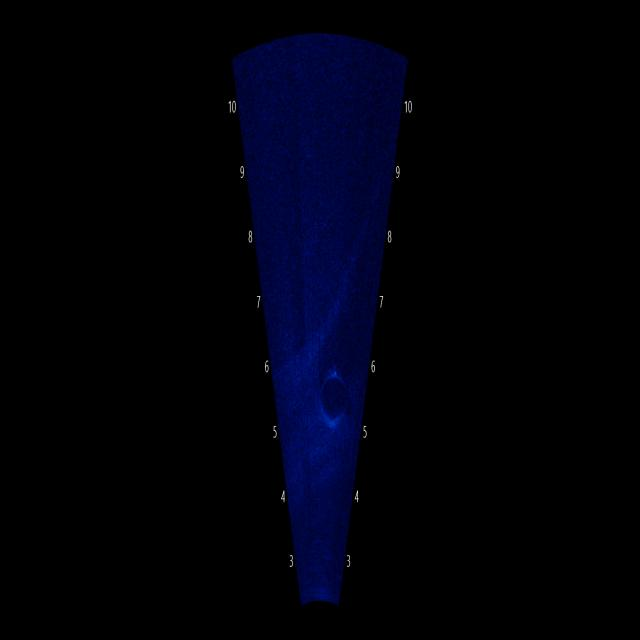circle: (318, 344, 356, 441)
